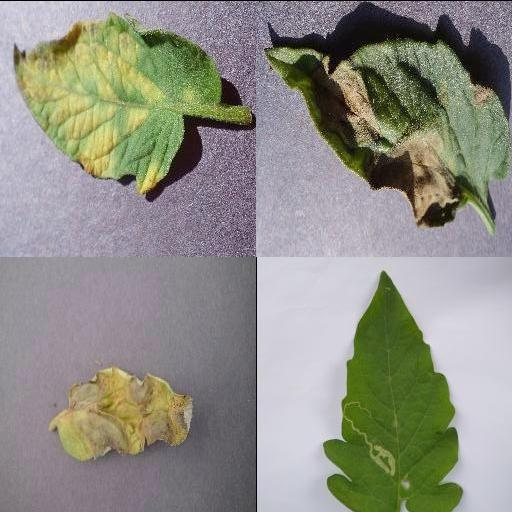Late Blight: (262, 40, 512, 228), (56, 364, 196, 462)
Leaf Miner: (320, 270, 463, 512)
Leaf Mold: (13, 10, 223, 192)
